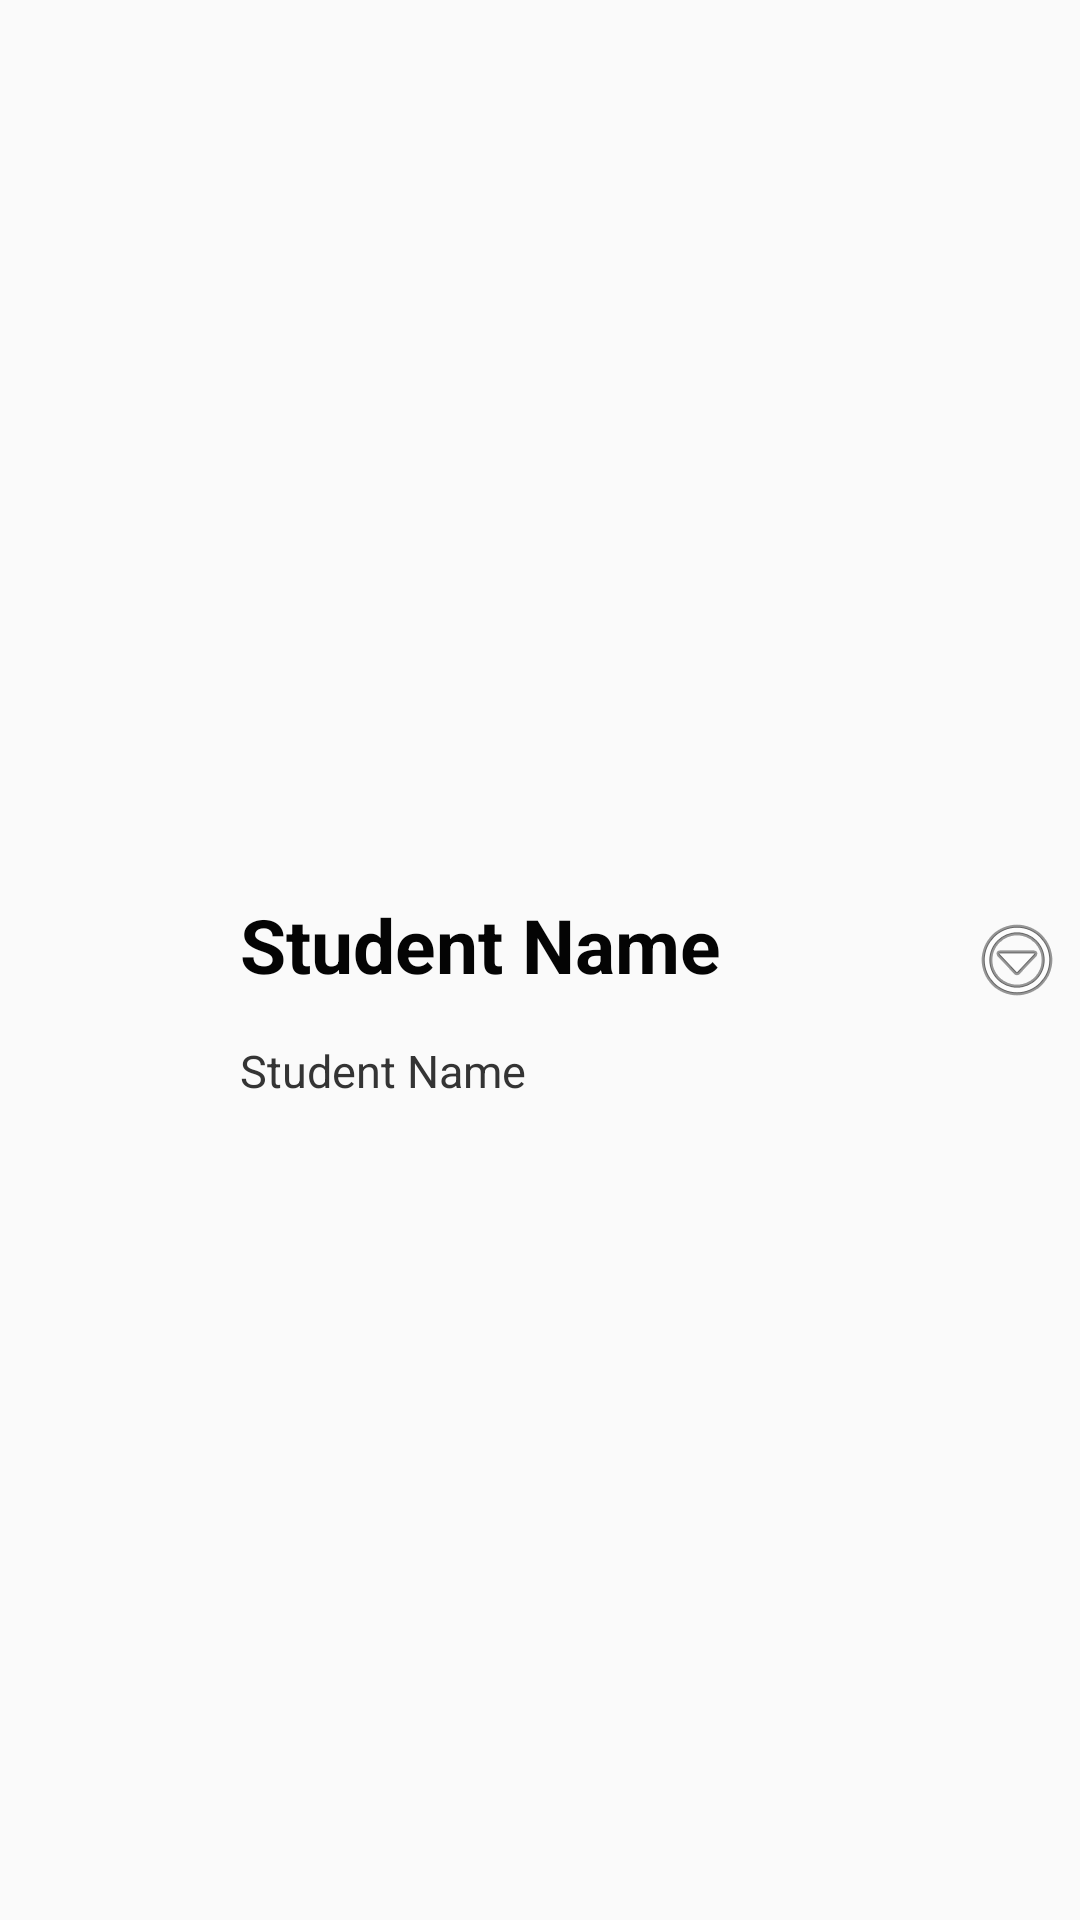

Named icons in this screenshot (1080x1920) and their bounding boxes, detection(x1, y1, x2, y2):
more: detection(981, 924, 1053, 996)
